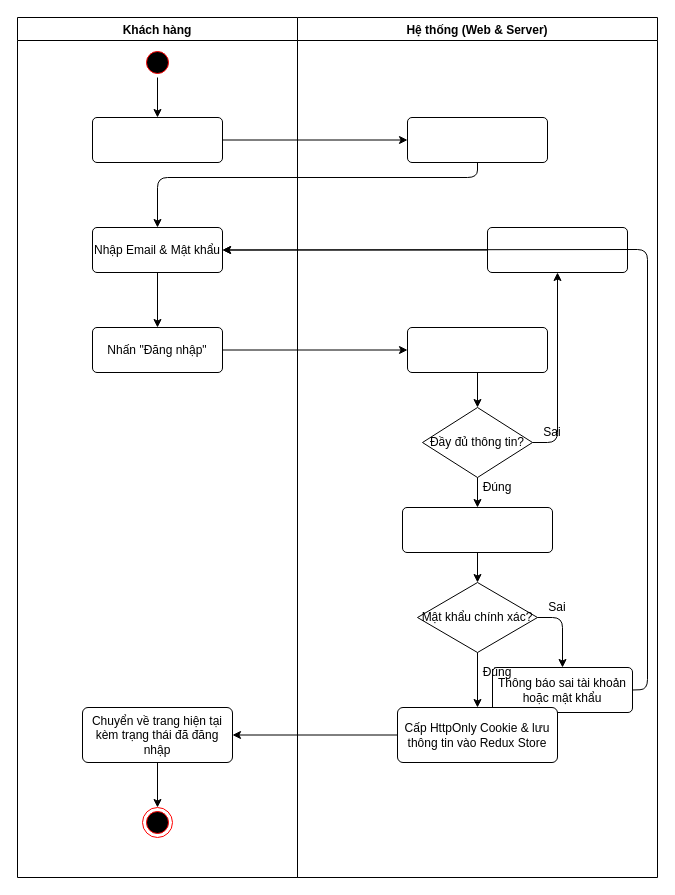
Some shapes in this 675 by 895 pixel diagram are drawn without their labels. The centre of each missing label's shape, as x and y in pixels:
Hiển thị Form Đăng nhập: (x=477, y=139)
Nhấn nút "Đăng nhập": (x=157, y=139)
Tiếp nhận thông tin đăng nhập: (x=477, y=349)
Truy vấn CSDL & xác thực mật khẩu (Bcrypt): (x=477, y=529)
Yêu cầu nhập đầy đủ email và mật khẩu: (x=557, y=249)
